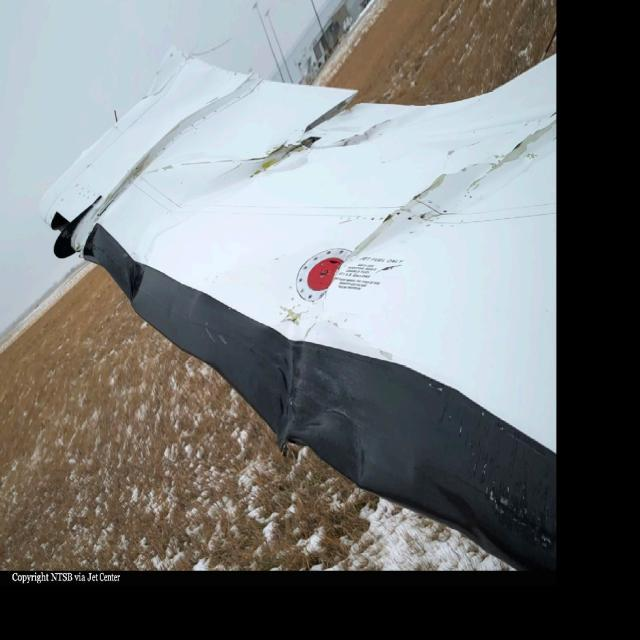crack: (346, 172, 461, 268), (458, 117, 566, 201)
dent: (280, 317, 378, 496), (132, 181, 251, 311)
